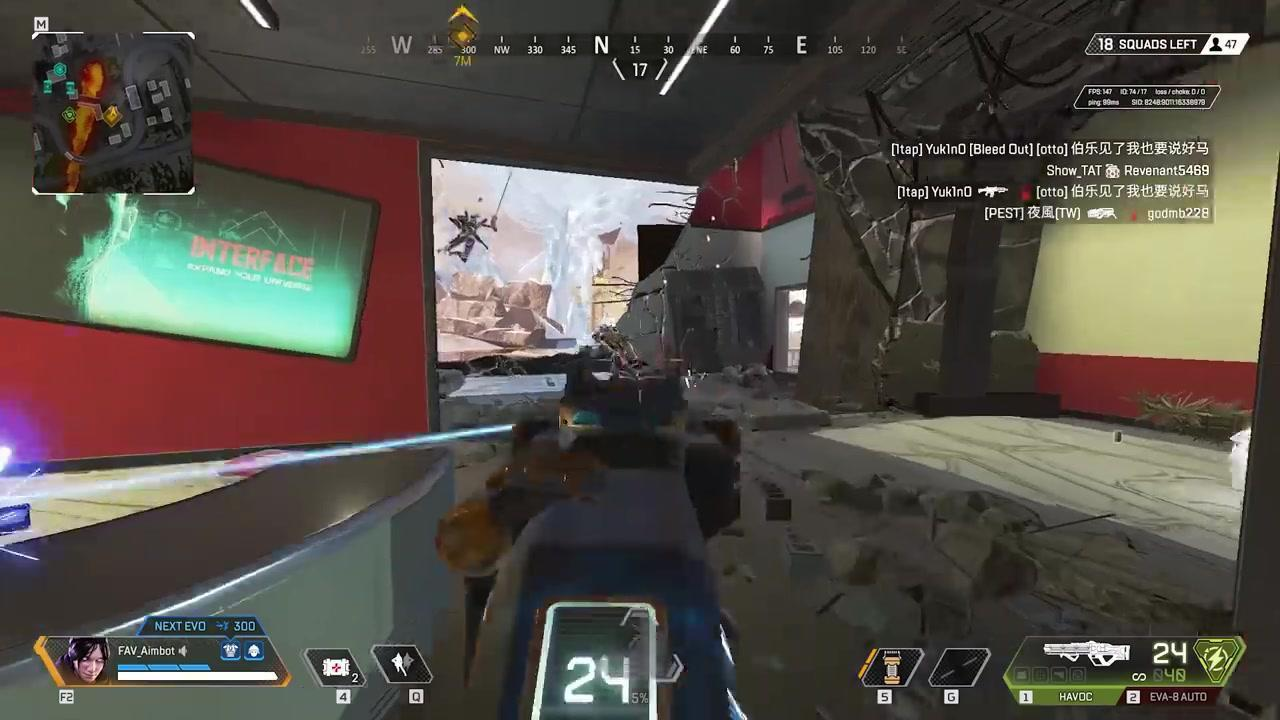avatar: (446, 210, 490, 265)
